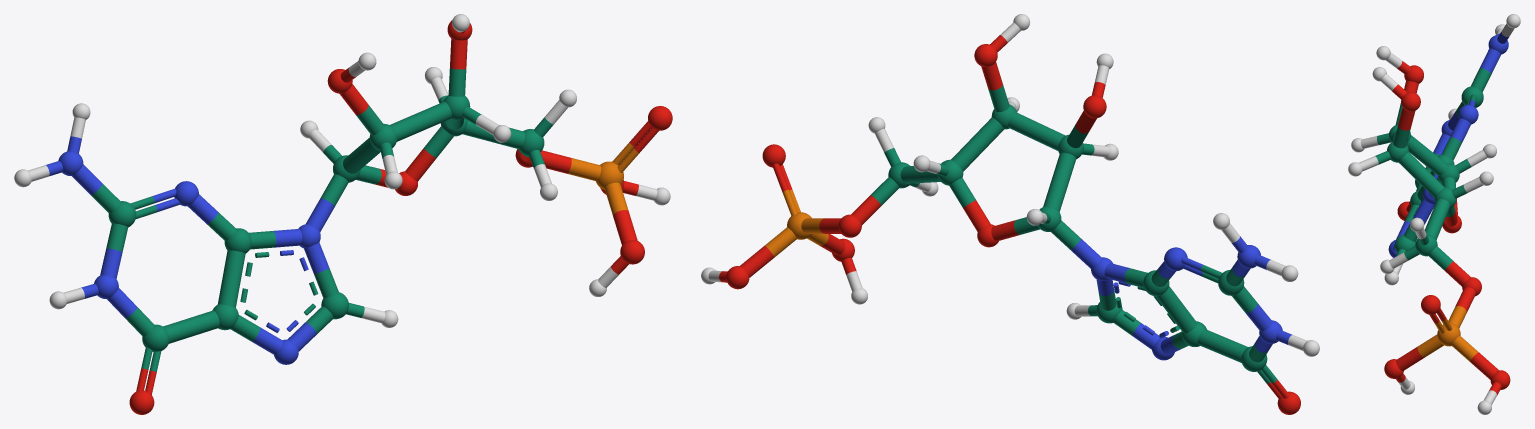
File: GMP.glb
3 views of the same model, side by side, from view 1: azimuth 30°, elevation 25°; view 2: azimuth 150°, elevation 25°; view 3: azimuth 270°, elevation 25° (orthographic). The views are drawn at different scales.
Size of the model in its own units: 13.65 by 6.86 by 3.96.
